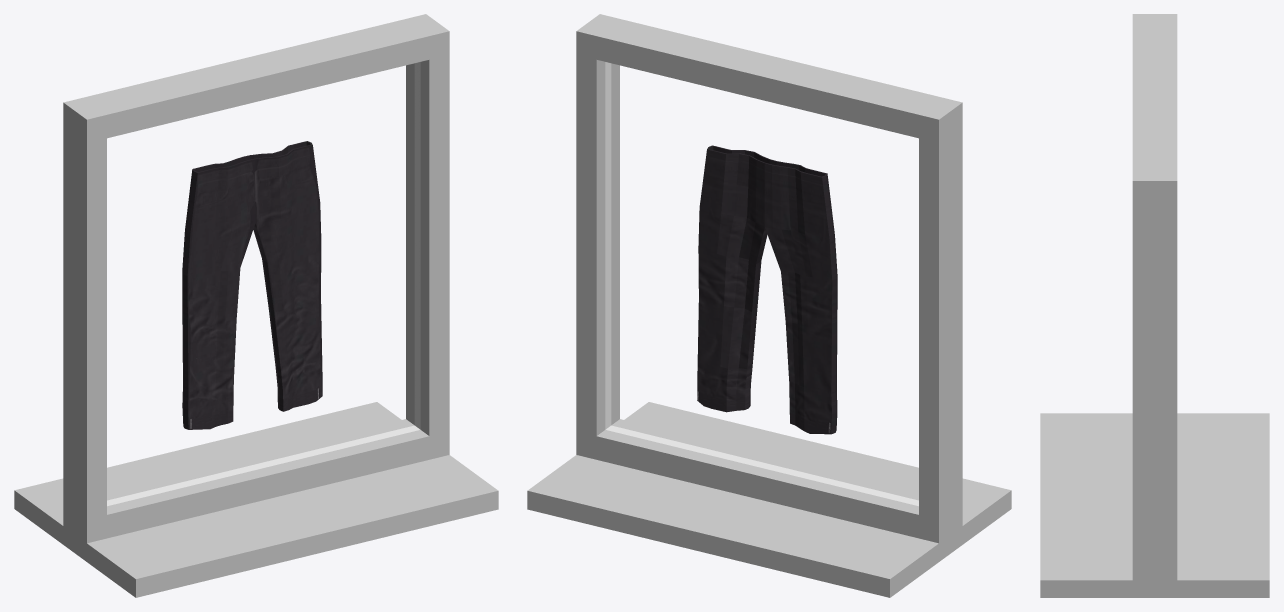
The model's file is zeldris_denim.glb.
3 renders of one model, left to right at view 1: azimuth 30°, elevation 25°; view 2: azimuth 150°, elevation 25°; view 3: azimuth 270°, elevation 25°, orthographic. The views are drawn at different scales.
Parts seen in each view (by area): view 1: Cube.032, Plane.028; view 2: Cube.032, Plane.028; view 3: Cube.032.
Part boxes in pixels (x1=…): Cube.032: x1=14, y1=14, x2=498, y2=597; Plane.028: x1=182, y1=141, x2=322, y2=429; Cube.032: x1=527, y1=14, x2=1011, y2=597; Plane.028: x1=697, y1=145, x2=837, y2=434; Cube.032: x1=1040, y1=14, x2=1269, y2=597.
Size of the model in its own units: 0.6242 by 0.7276 by 0.362.
3 materials, 1 textured.
